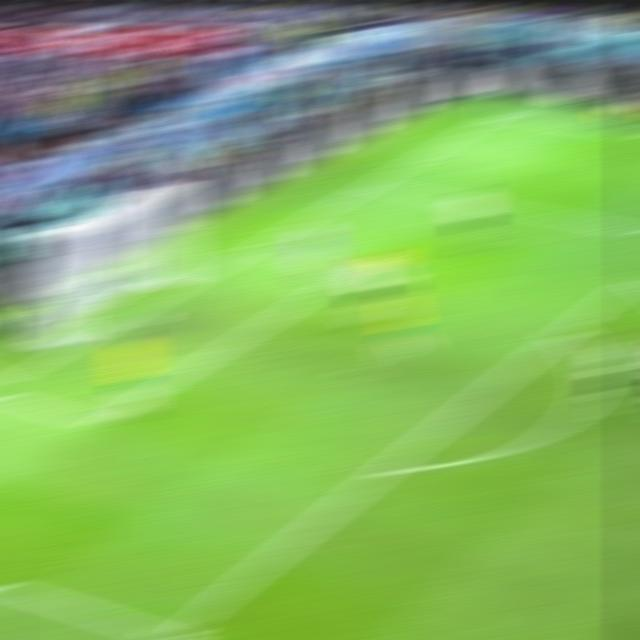bigarea_bottom_inner: (148, 623, 197, 638)
bigarea_top_outter: (358, 176, 390, 193)
bottom_arc_area_intersection: (363, 447, 412, 491)
corner: (481, 108, 516, 121)
smallarea_bottom_inner: (82, 410, 119, 434)
smallarea_top_inner: (334, 261, 368, 283)
smallarea_top_outter: (231, 242, 270, 257)
top_arc_area_intersection: (546, 317, 584, 345)
